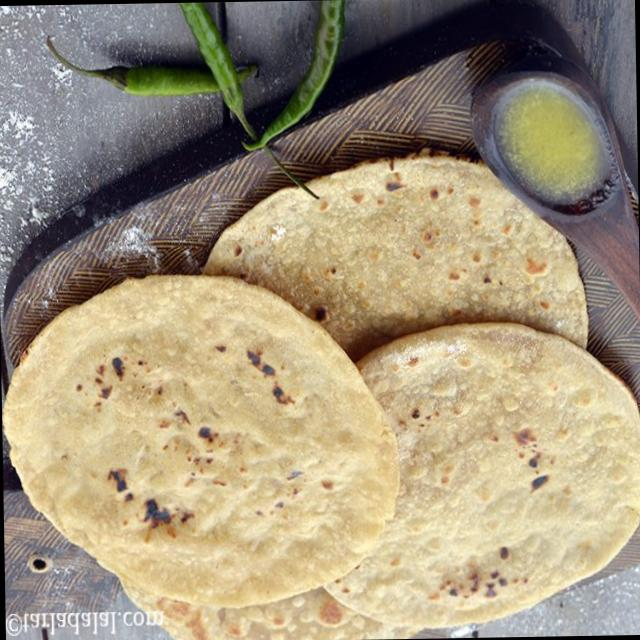roti: (4, 157, 640, 640)
